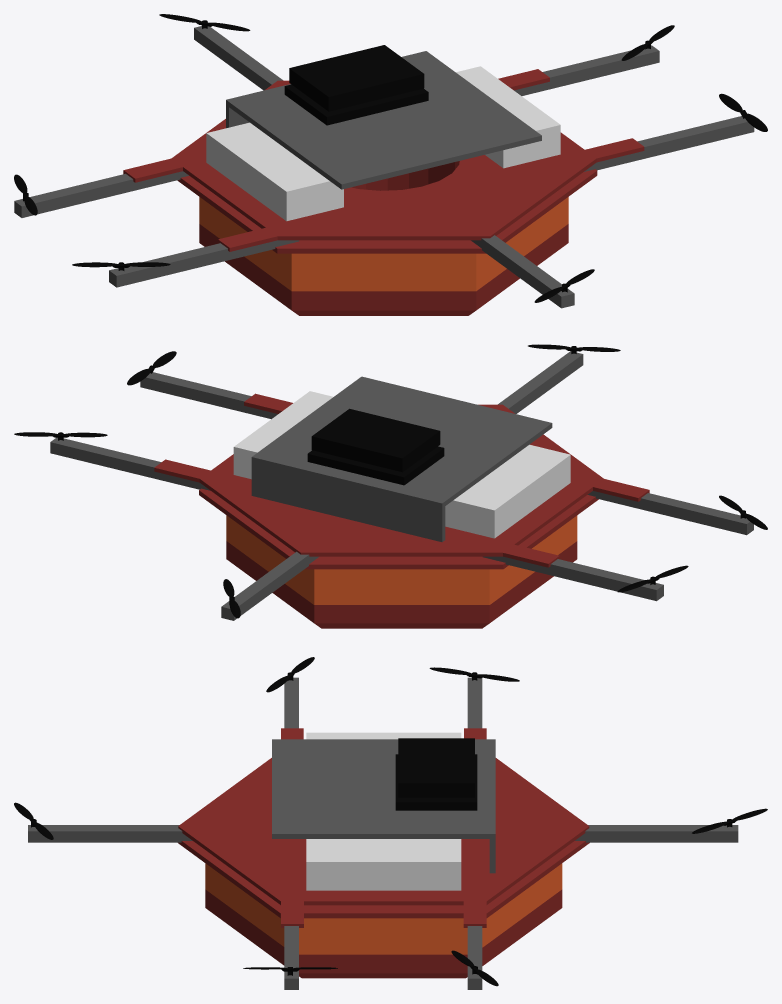
The model's file is drone_kualitas_air_27.fbx.
3 renders of one model, top to bottom at view 1: azimuth 30°, elevation 25°; view 2: azimuth 150°, elevation 25°; view 3: azimuth 270°, elevation 25°, orthographic. The views are drawn at different scales.
Parts seen in each view (by area): view 1: Cylinder, Cube.006, Cube.007, Cube.008, Cube.004, Cube.005, Cube.003, Cube.002, Cube, Cube.001; view 2: Cylinder, Cube.006, Cube.007, Cube.004, Cube.005, Cube.008, Cube.002, Cube.003, Cube.001, Cube; view 3: Cylinder, Cube.006, Cube.008, Cube.001, Cube, Cube.007, Cube.002, Cube.003, Cube.005, Cube.004.
Boxes of the visible parts, x1=… form: Cylinder: x1=123, y1=69, x2=644, y2=315; Cube.006: x1=226, y1=45, x2=541, y2=189; Cube.007: x1=206, y1=122, x2=343, y2=221; Cube.008: x1=456, y1=66, x2=560, y2=168; Cube.004: x1=109, y1=240, x2=299, y2=287; Cube.005: x1=14, y1=171, x2=188, y2=217; Cube.003: x1=584, y1=116, x2=754, y2=171; Cube.002: x1=514, y1=45, x2=659, y2=95; Cube: x1=471, y1=235, x2=574, y2=308; Cube.001: x1=194, y1=26, x2=283, y2=90; Cylinder: x1=154, y1=393, x2=649, y2=628; Cube.006: x1=251, y1=376, x2=552, y2=541; Cube.007: x1=445, y1=444, x2=570, y2=538; Cube.004: x1=588, y1=491, x2=753, y2=535; Cube.005: x1=483, y1=556, x2=663, y2=601; Cube.008: x1=233, y1=391, x2=333, y2=479; Cube.002: x1=50, y1=437, x2=210, y2=490; Cube.003: x1=140, y1=372, x2=277, y2=419; Cube.001: x1=221, y1=551, x2=318, y2=620; Cube: x1=498, y1=351, x2=583, y2=413; Cylinder: x1=178, y1=728, x2=589, y2=978; Cube.006: x1=272, y1=738, x2=495, y2=873; Cube.008: x1=306, y1=839, x2=461, y2=890; Cube.001: x1=575, y1=825, x2=738, y2=842; Cube: x1=28, y1=825, x2=192, y2=842; Cube.007: x1=306, y1=732, x2=461, y2=739; Cube.002: x1=467, y1=926, x2=482, y2=989; Cube.003: x1=284, y1=926, x2=298, y2=989; Cube.005: x1=467, y1=677, x2=482, y2=728; Cube.004: x1=284, y1=677, x2=298, y2=728.
Size of the model in its own units: 436 by 104 by 422.
